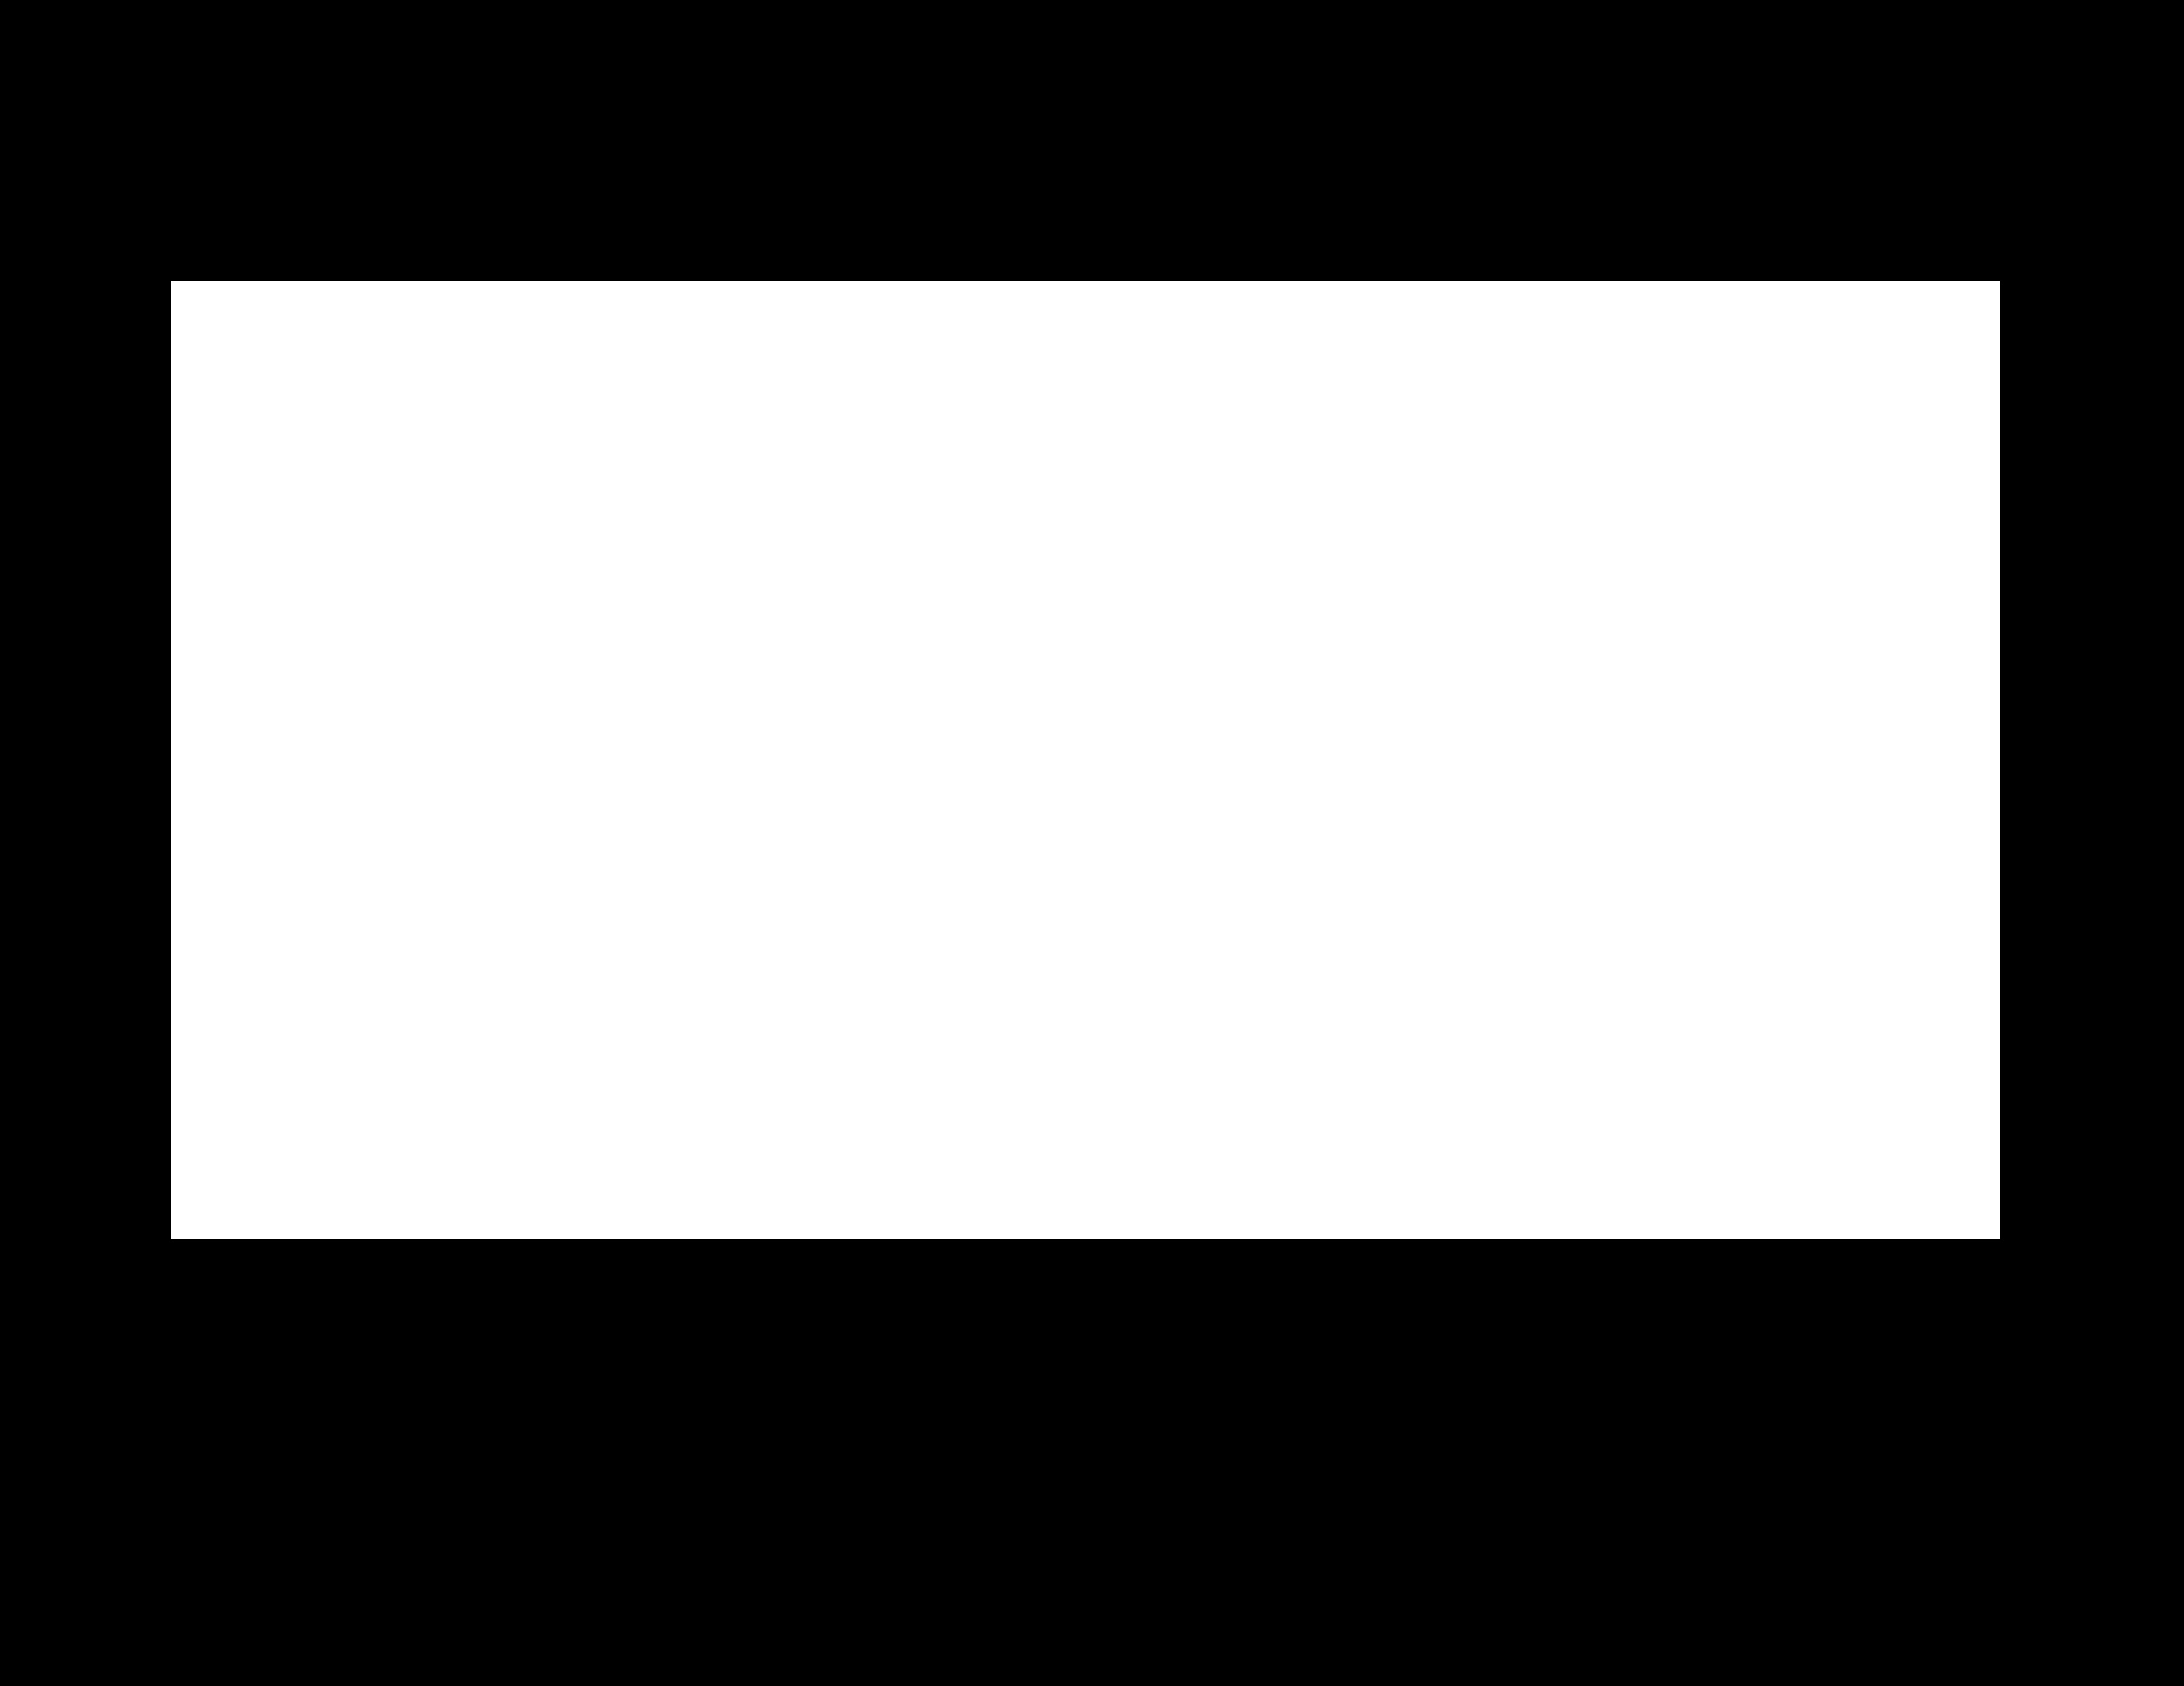table: (172, 282, 2000, 1238)
